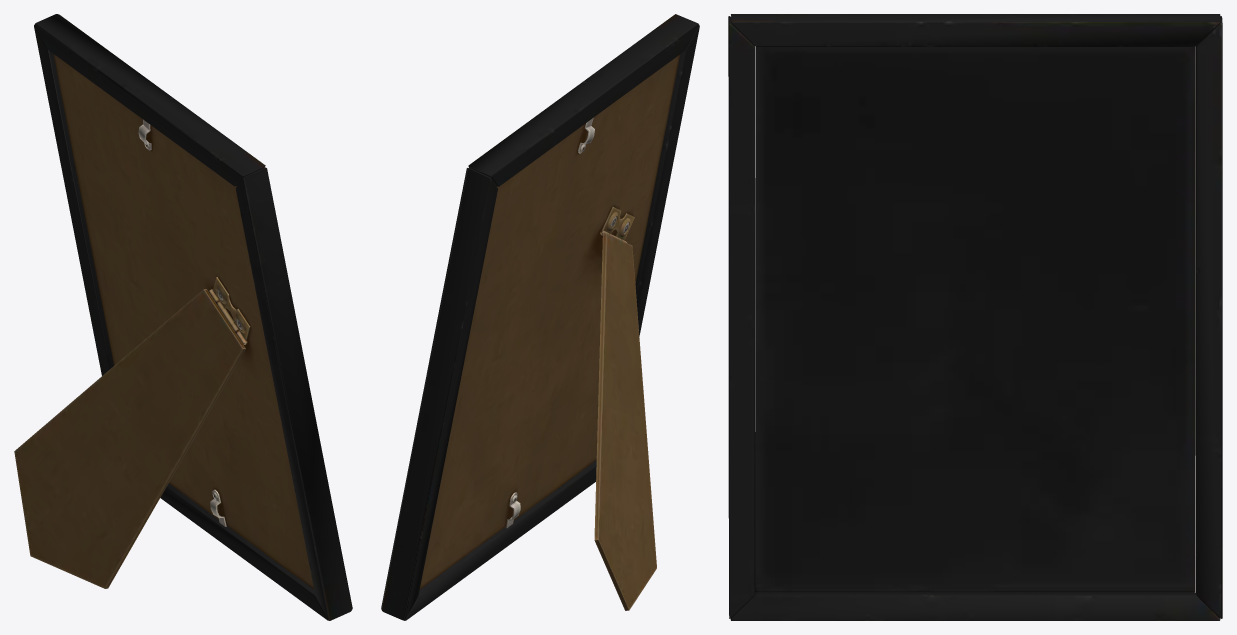
Rendered from standing-photo-frame-low.glb.
3 renders of one model, left to right at view 1: azimuth 30°, elevation 25°; view 2: azimuth 150°, elevation 25°; view 3: azimuth 270°, elevation 25°, orthographic. The views are drawn at different scales.
Visible parts, largest first — view 1: standing_picture_frame_01; view 2: standing_picture_frame_01; view 3: standing_picture_frame_01.
Boxes of the visible parts, bbox=[...] form: standing_picture_frame_01: bbox=[14, 14, 352, 620]; standing_picture_frame_01: bbox=[381, 14, 699, 620]; standing_picture_frame_01: bbox=[728, 14, 1222, 620].
Bounding box in the file's own units: 0.1003 × 0.2496 × 0.2008.
3 materials, 3 textured.
